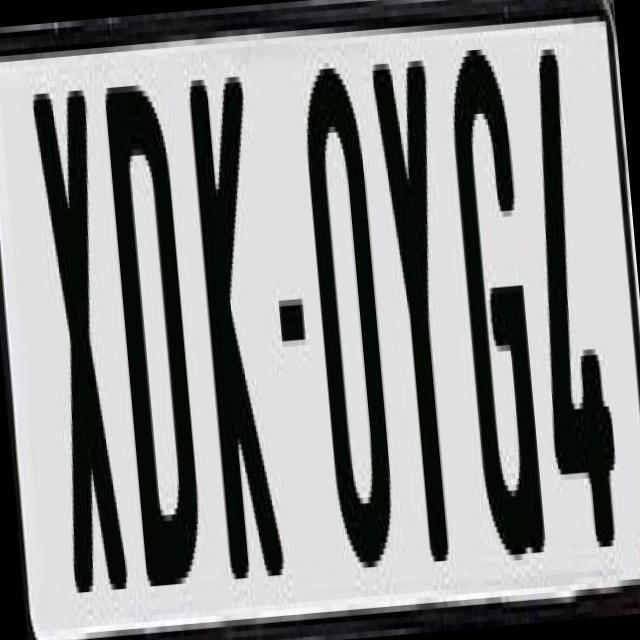0: (294, 54, 400, 593)
4: (516, 28, 630, 544)
D: (101, 64, 214, 598)
G: (444, 41, 550, 591)
K: (183, 58, 292, 590)
X: (32, 90, 129, 604)
Y: (366, 48, 462, 563)
